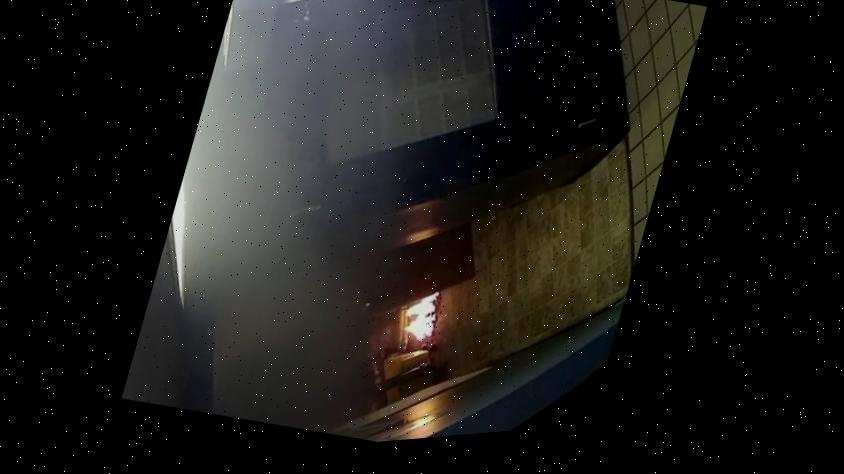fire: (376, 278, 460, 364)
